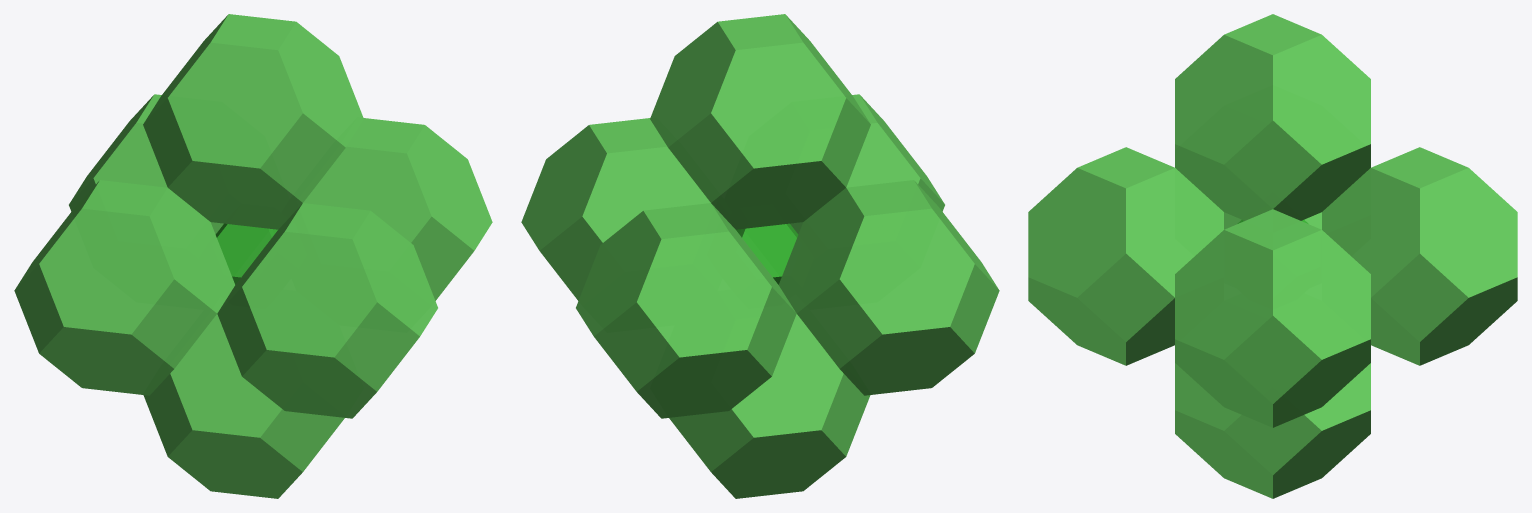
Rendered from fractaltruncatedoctahedron1.glb.
The picture shows the model from 3 angles, left to right: view 1: azimuth 30°, elevation 25°; view 2: azimuth 150°, elevation 25°; view 3: azimuth 270°, elevation 25°; orthographic projection.
Size of the model in its own units: 11.29 by 11.29 by 11.29.
